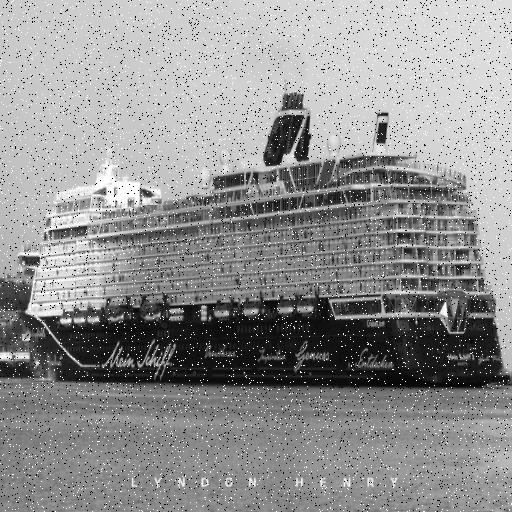cruises: (12, 90, 512, 400)
